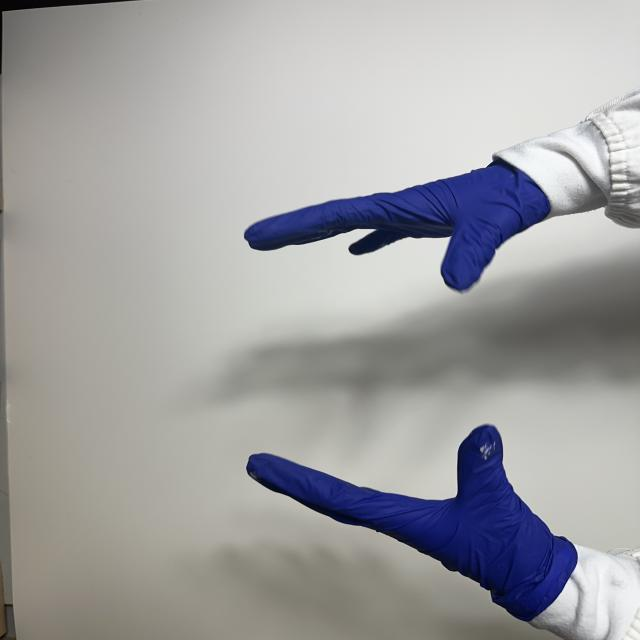gloves_contaminated: (247, 425, 578, 621), (245, 161, 550, 291)
